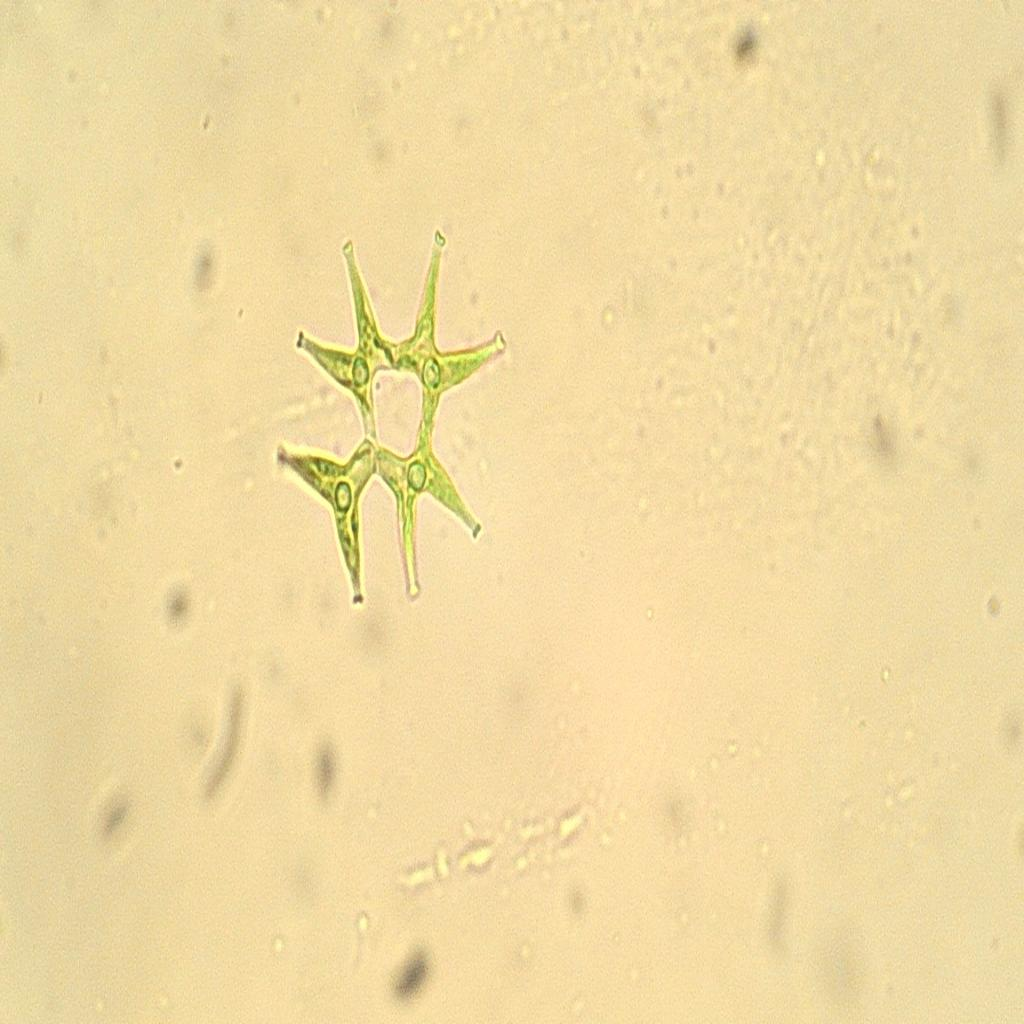Pediastrum_CT: (270, 213, 510, 638)
